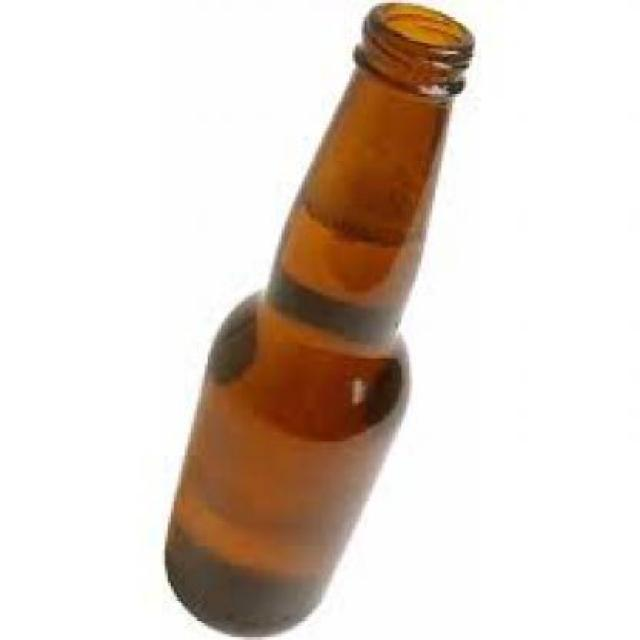GLASS: (164, 0, 478, 637)
